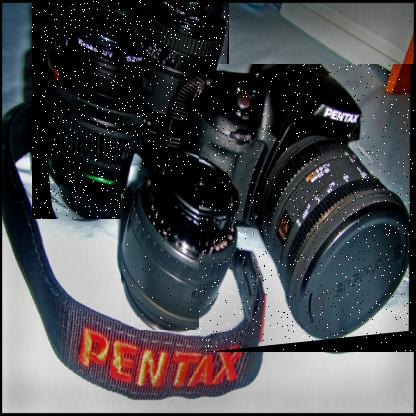Camera: (201, 65, 416, 354), (33, 1, 147, 221), (122, 153, 240, 332), (143, 3, 231, 169)
